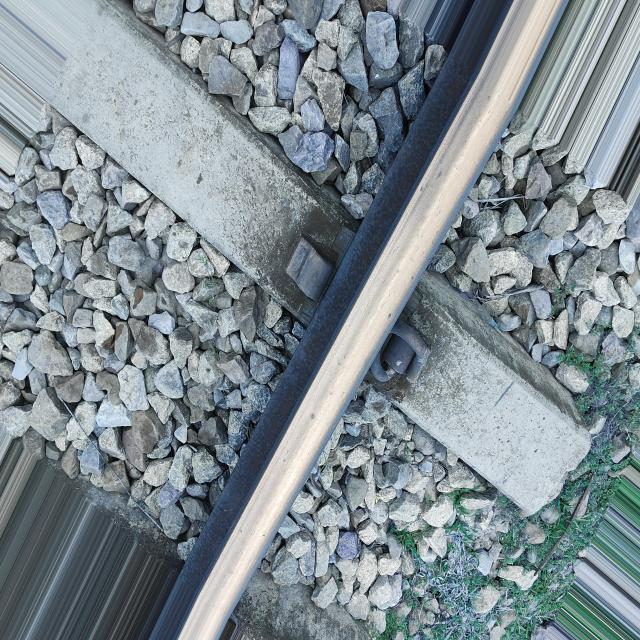Good Fasteners: (369, 319, 430, 383)
Missing Fastener: (277, 234, 340, 326)
